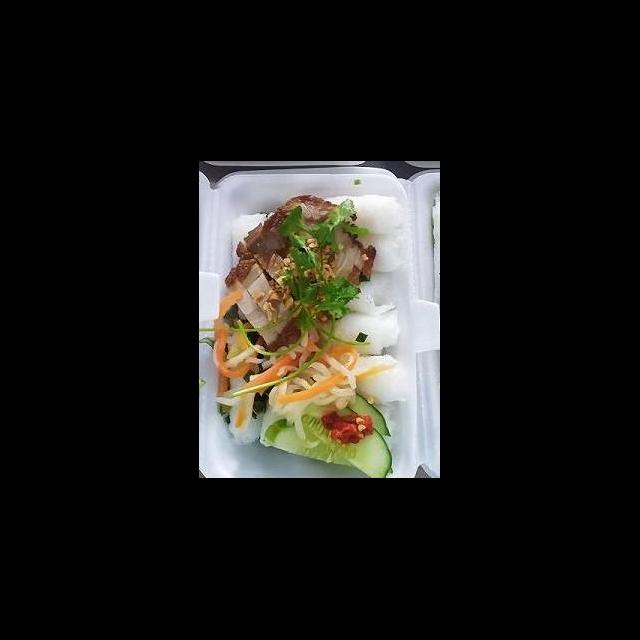banh hoi: (222, 329, 270, 448), (318, 190, 406, 240), (346, 350, 416, 408), (326, 310, 404, 358), (232, 208, 276, 272), (351, 230, 406, 276), (340, 278, 400, 320)
banh hoi heo quay: (212, 185, 428, 477)
dua chua: (244, 310, 364, 444), (210, 289, 268, 432)
thit heo quay: (264, 192, 380, 314), (232, 254, 302, 346), (222, 266, 288, 352), (244, 224, 302, 304)
